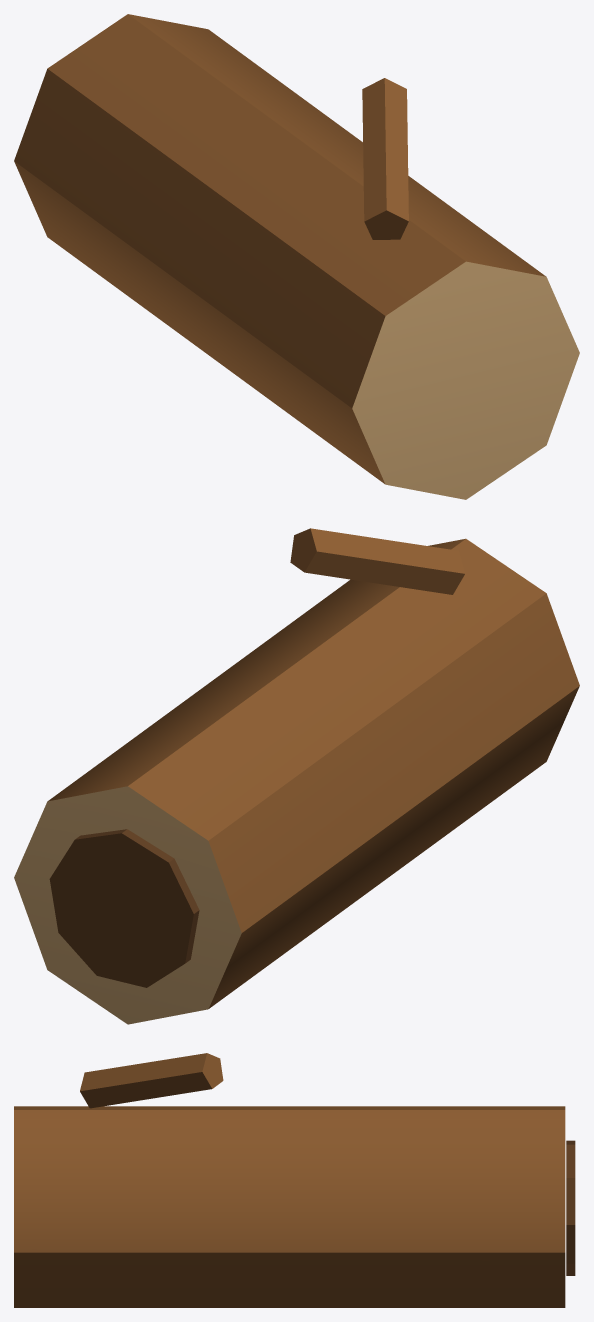
Rendered from item_log.glb.
3 views of the same model, one above another, from view 1: azimuth 30°, elevation 25°; view 2: azimuth 150°, elevation 25°; view 3: azimuth 270°, elevation 25° (orthographic). The views are drawn at different scales.
Visible parts, largest first — view 1: item_log; view 2: item_log, item_log_detail; view 3: item_log, item_log_detail.
Part boxes in pixels (x1=…): item_log: x1=14, y1=14, x2=579, y2=499; item_log: x1=14, y1=528, x2=579, y2=1024; item_log_detail: x1=49, y1=829, x2=199, y2=987; item_log: x1=14, y1=1053, x2=565, y2=1307; item_log_detail: x1=566, y1=1140, x2=575, y2=1275.
Size of the model in its own units: 0.28 by 0.3834 by 0.739.
